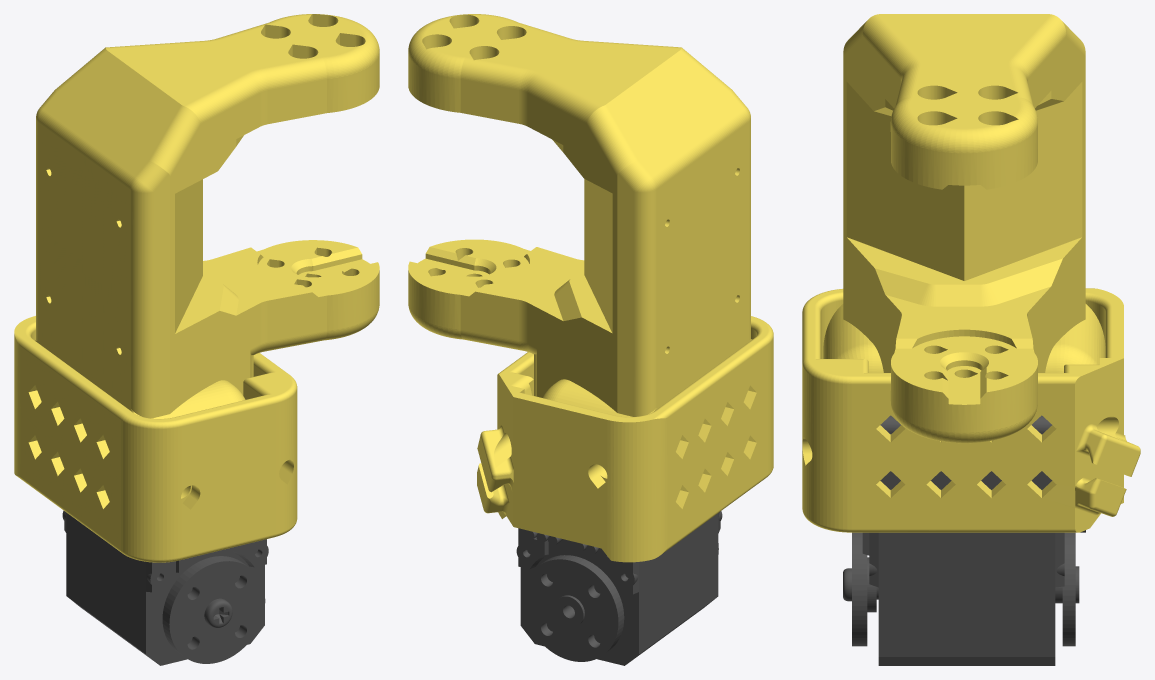
Rendered from shoulder.glb.
The picture shows the model from 3 angles, left to right: view 1: azimuth 30°, elevation 25°; view 2: azimuth 150°, elevation 25°; view 3: azimuth 270°, elevation 25°; orthographic projection. The views are drawn at different scales.
Parts seen in each view (by area): view 1: shoulder; view 2: shoulder; view 3: shoulder.
Part boxes in pixels (bbox=[...]): shoulder: bbox=[14, 14, 379, 665]; shoulder: bbox=[408, 14, 773, 665]; shoulder: bbox=[802, 14, 1140, 665].
Bounding box in the file's own units: 0.0628 × 0.1106 × 0.0551.
